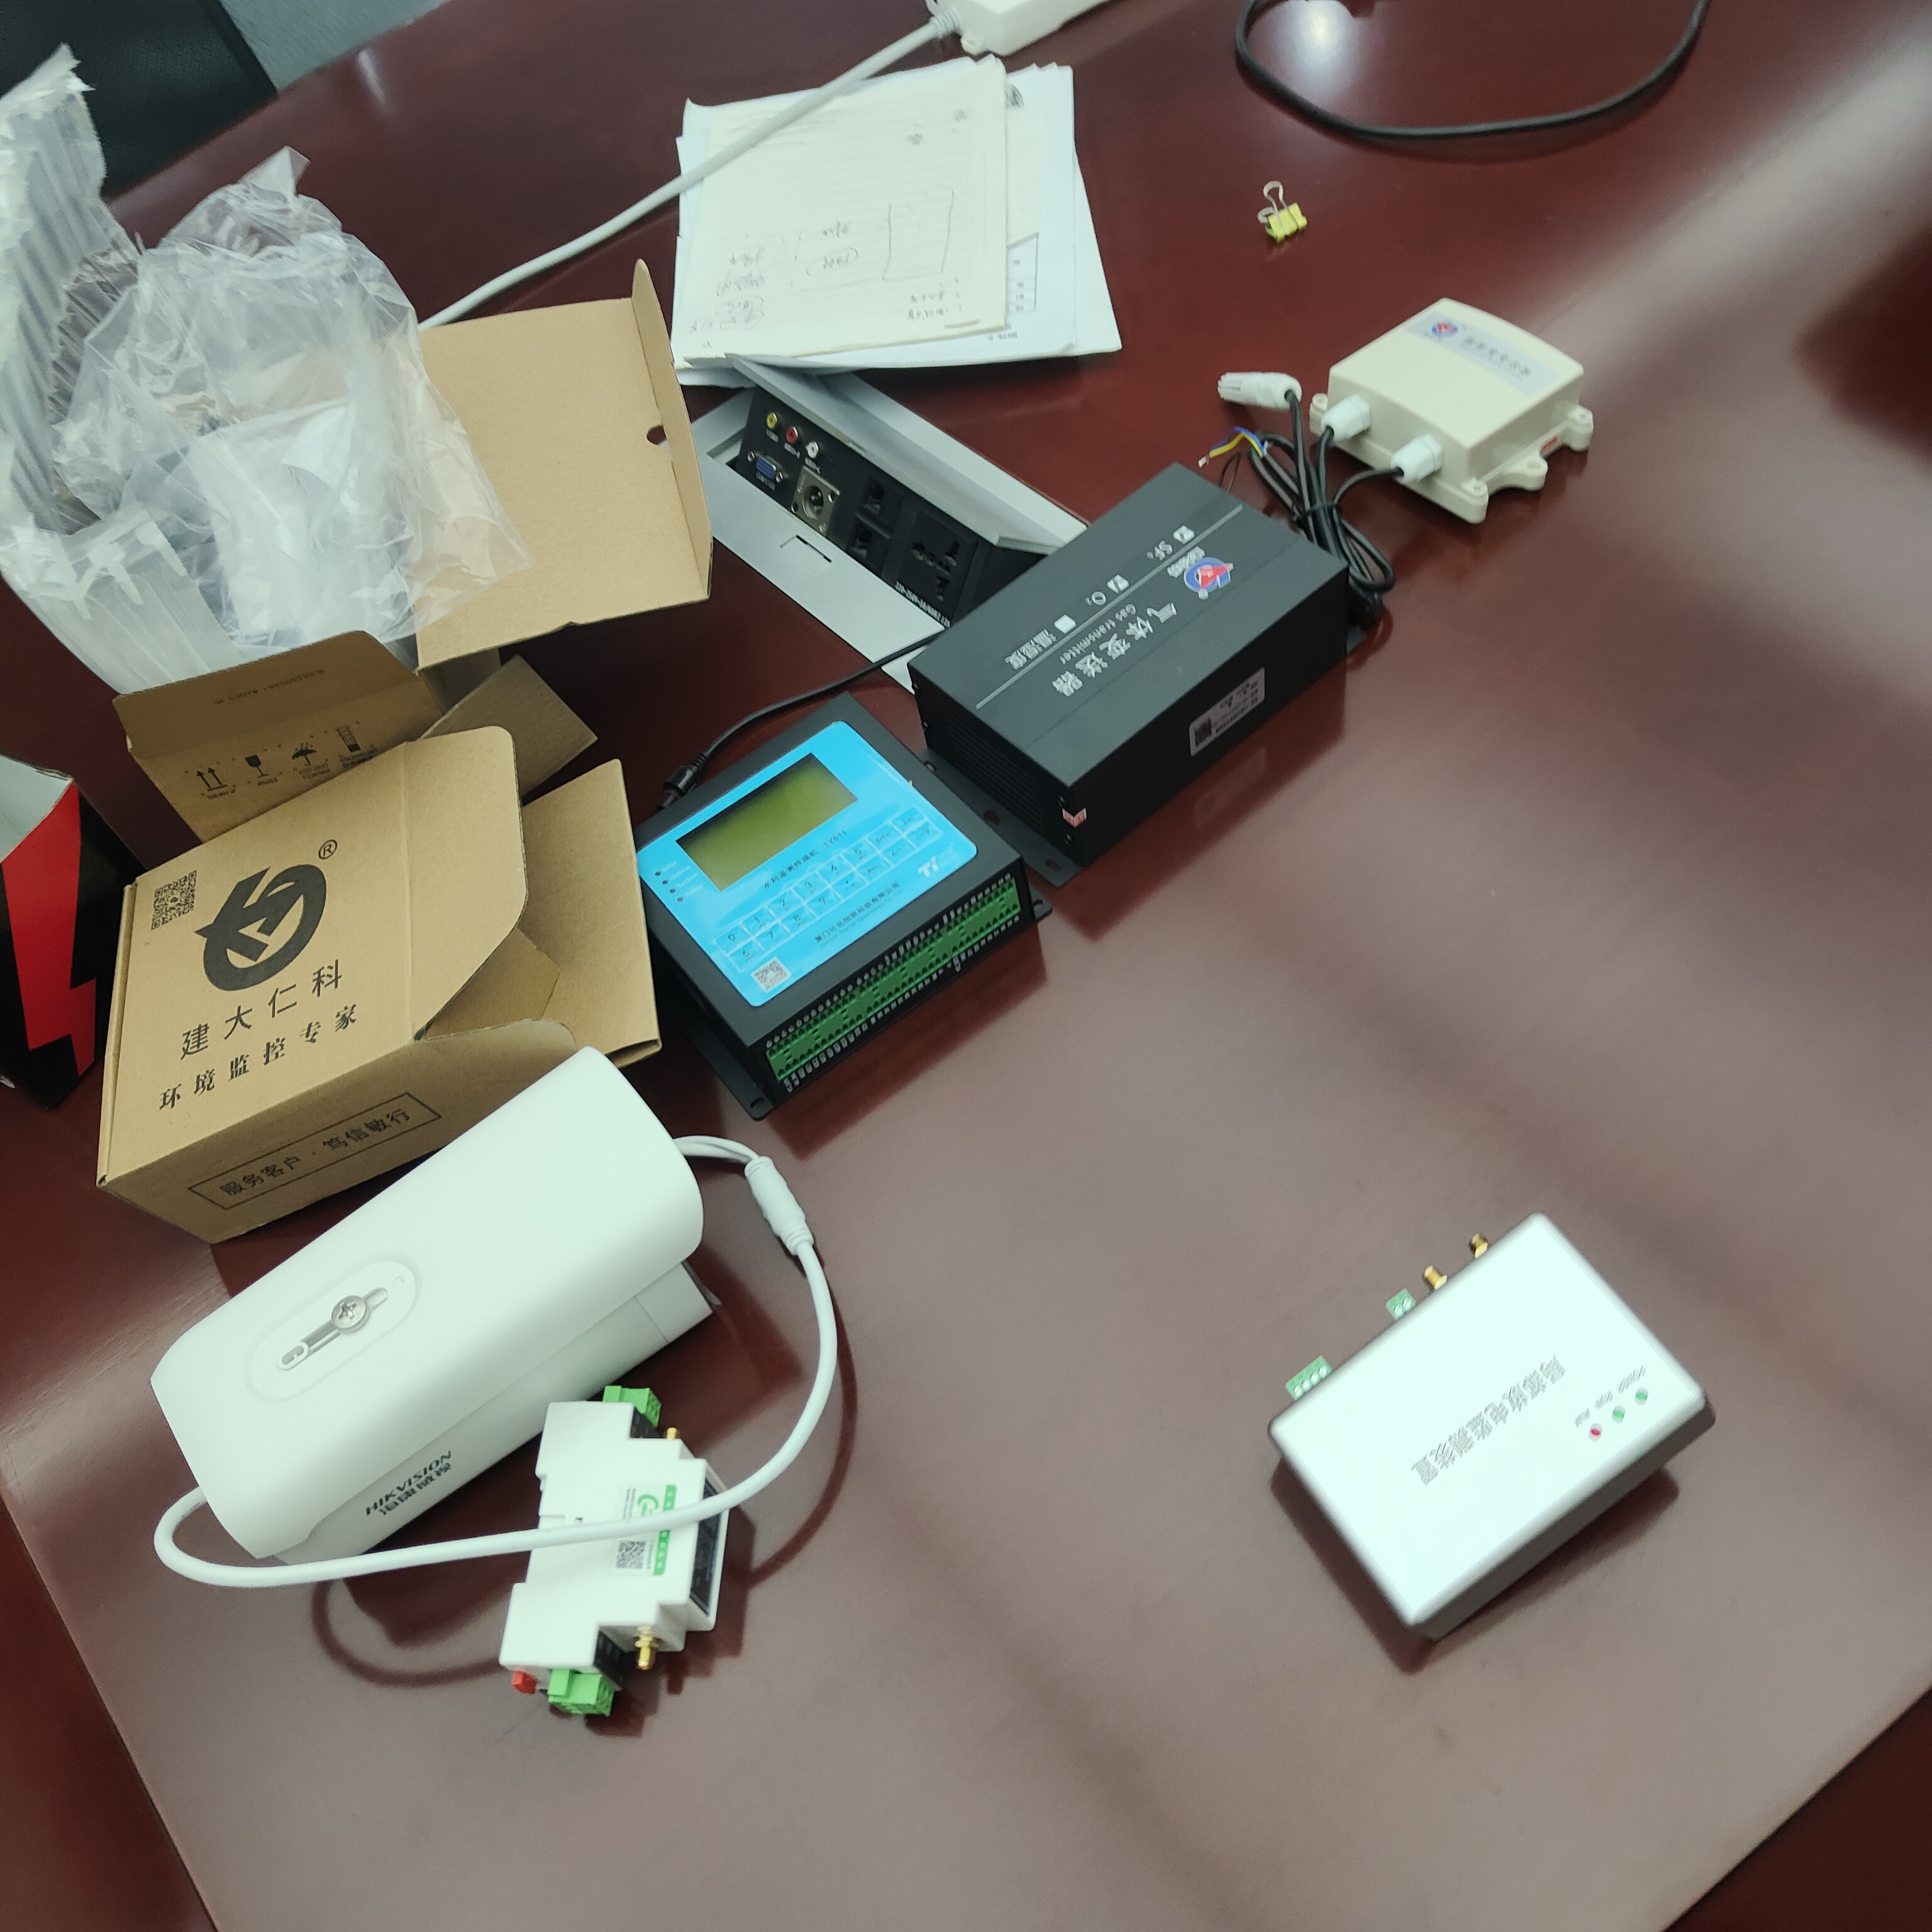dgjs: (502, 1392, 745, 1725)
hkws: (149, 1074, 736, 1541)
jbfdjc: (1272, 1201, 1714, 1645)
qtbsq: (915, 455, 1373, 837)
slyczd: (626, 717, 1035, 1092)
wsdbsq: (1297, 274, 1619, 524)
